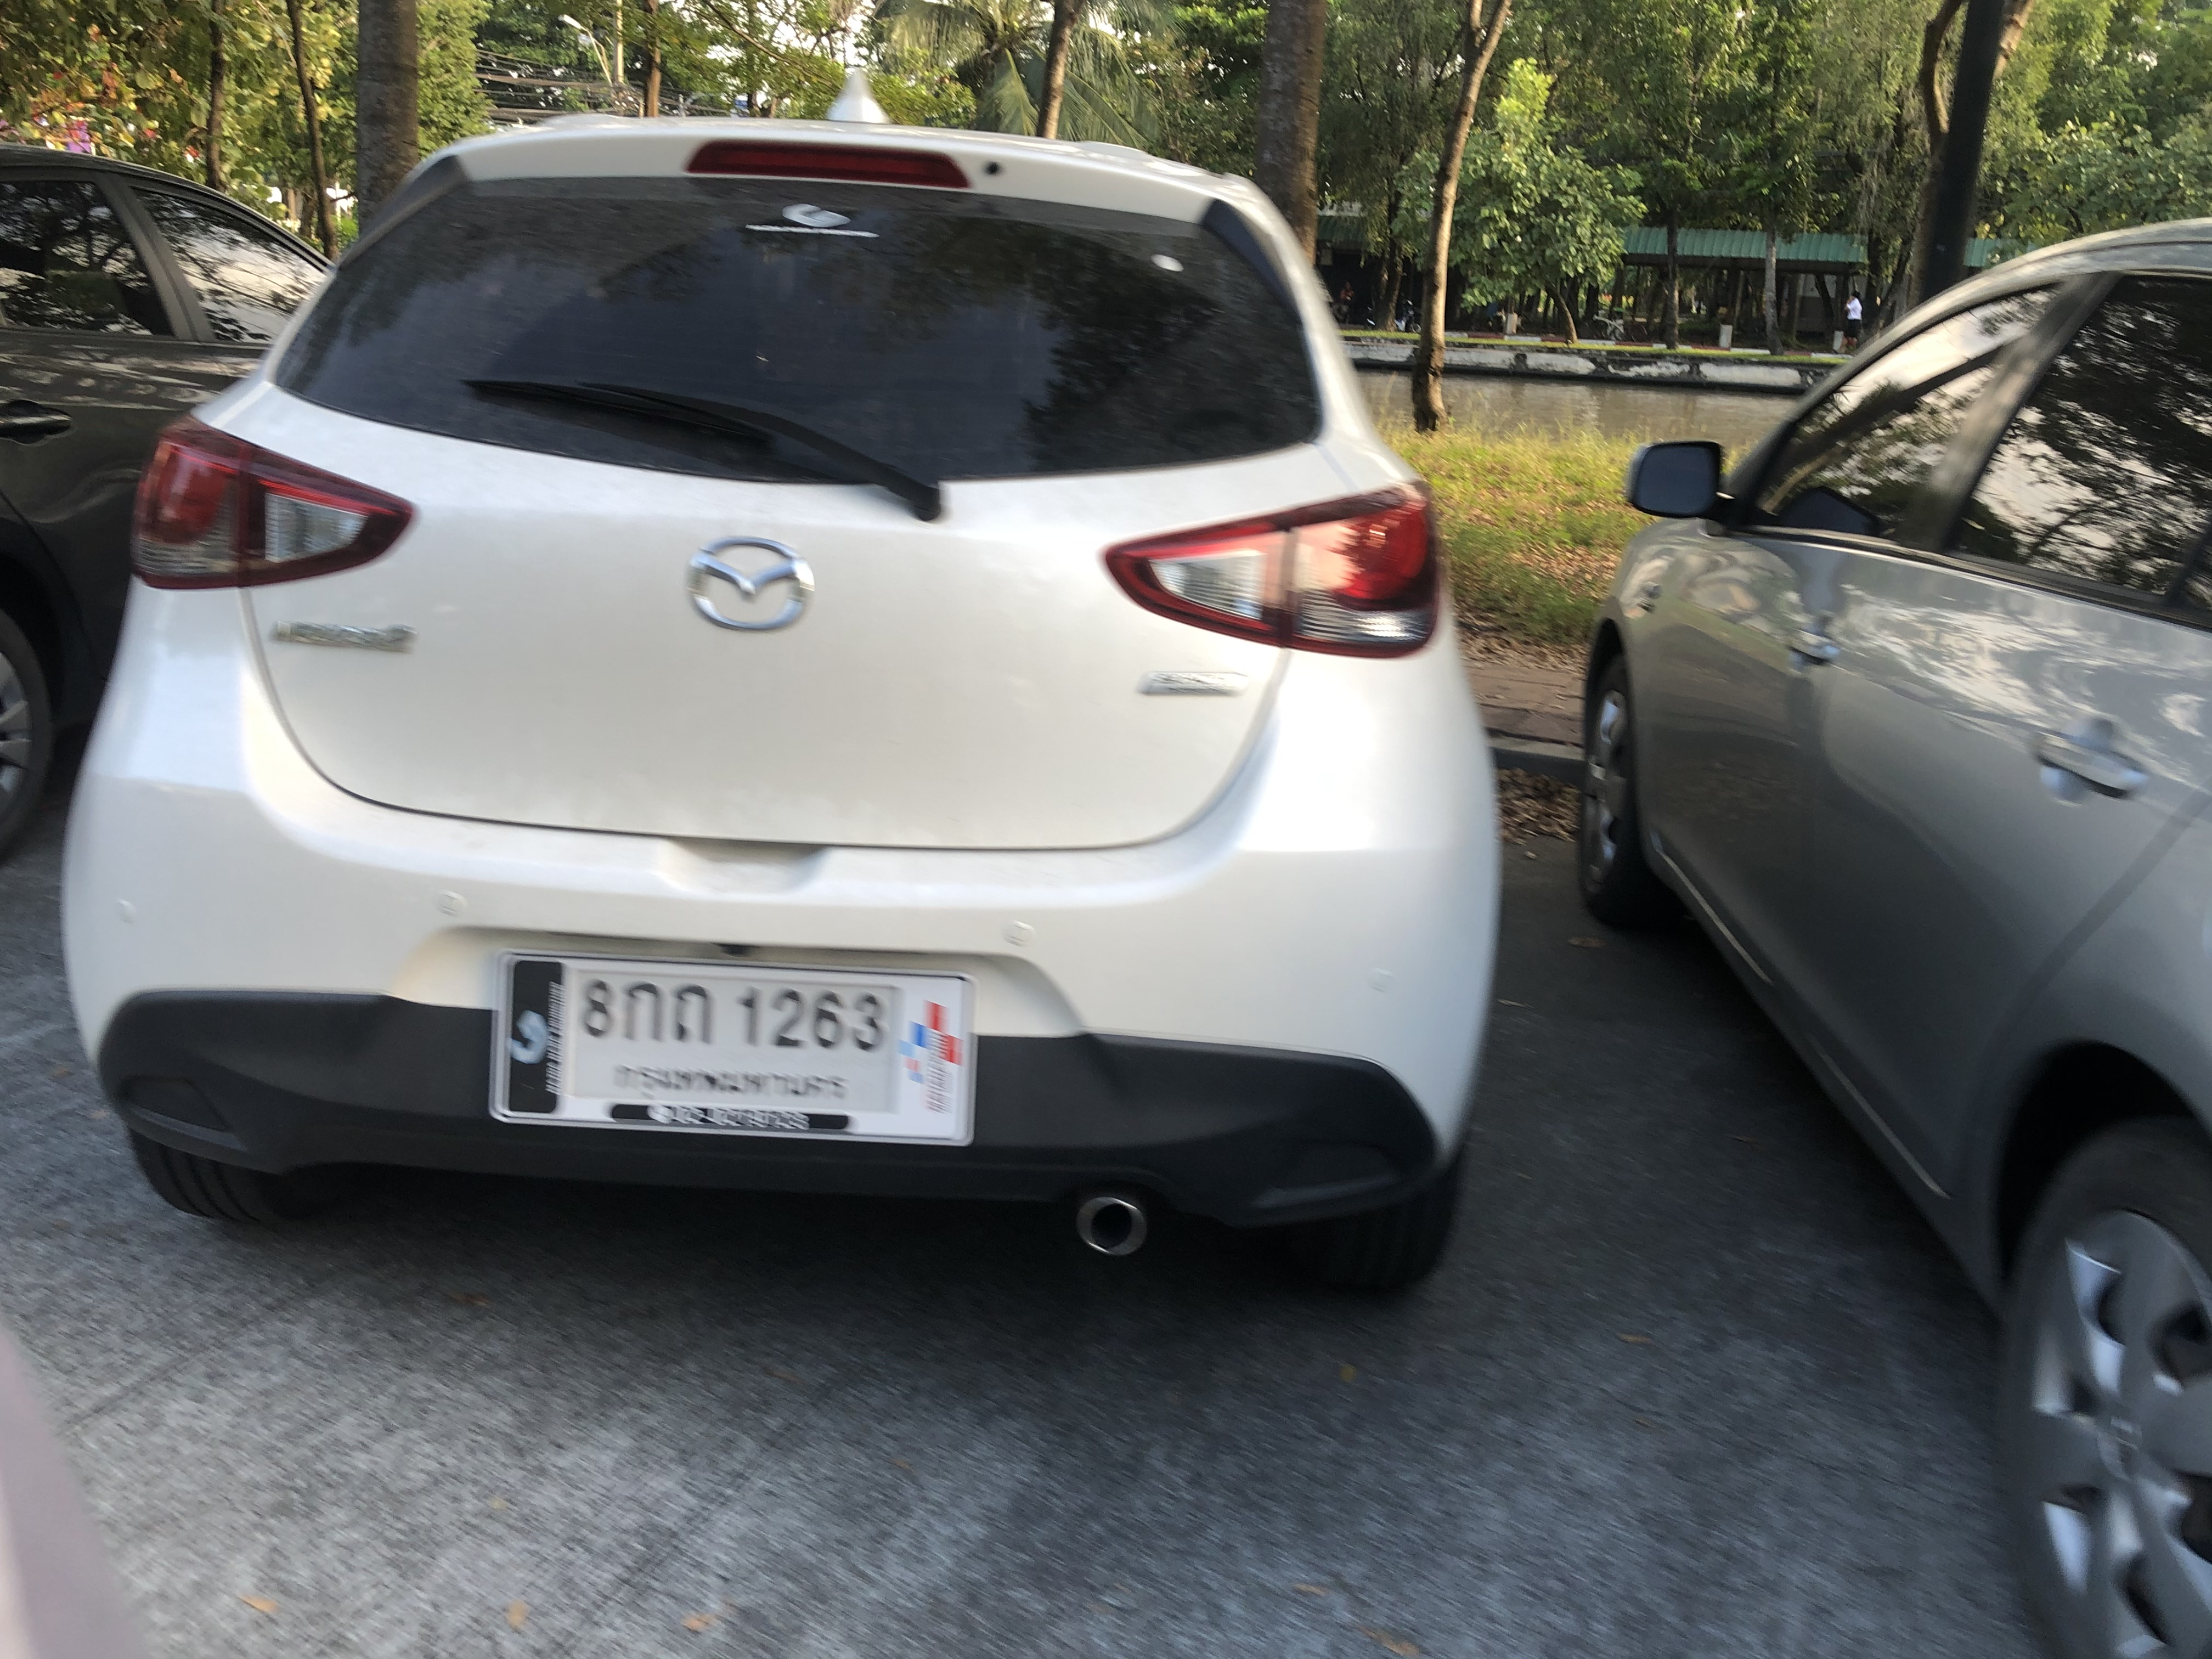in: (580, 971, 899, 1115)
out: (493, 950, 977, 1147)
